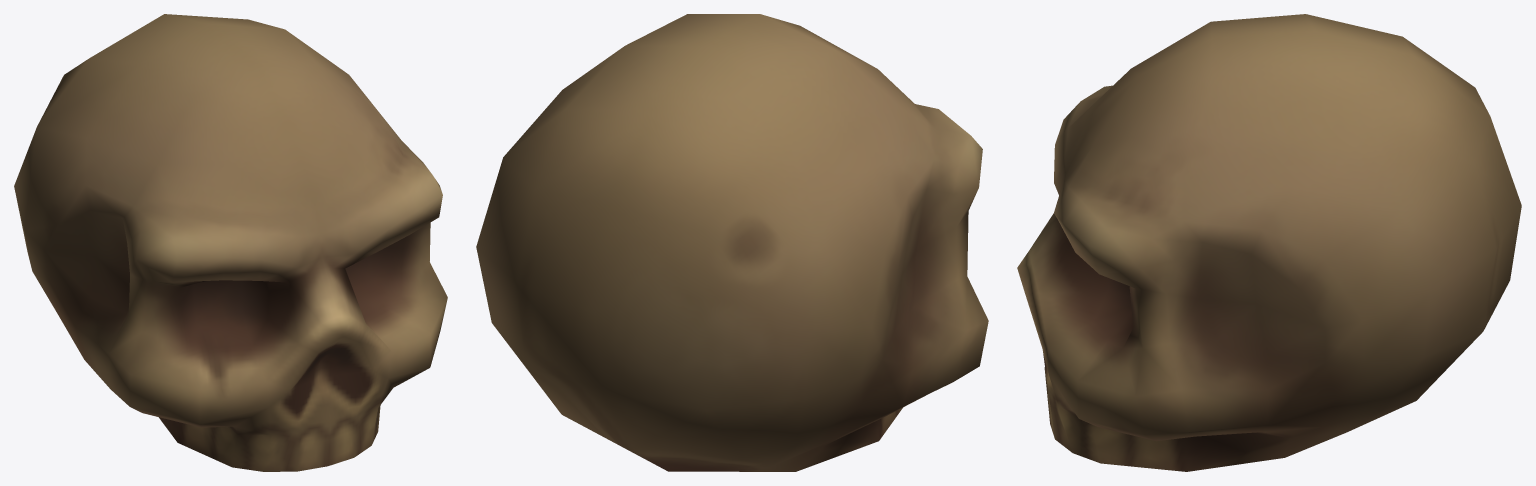
Rendered from skeleton_skull.fbx.
3 renders of one model, left to right at view 1: azimuth 30°, elevation 25°; view 2: azimuth 150°, elevation 25°; view 3: azimuth 270°, elevation 25°, orthographic. The views are drawn at different scales.
Visible parts, largest first — view 1: skeleton_skull; view 2: skeleton_skull; view 3: skeleton_skull.
Part boxes in pixels (box(x1,y1,x2,y2)): skeleton_skull: box(14, 14, 447, 471); skeleton_skull: box(476, 14, 988, 471); skeleton_skull: box(1017, 14, 1521, 471).
Size of the model in its own units: 26.25 by 27.44 by 31.96.
